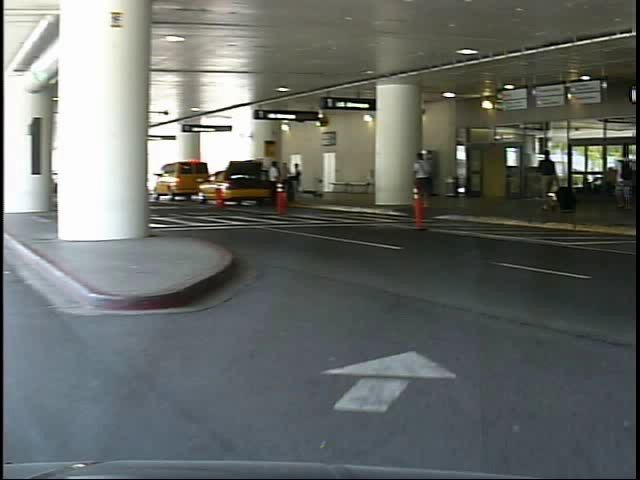person: (540, 146, 568, 222), (415, 149, 442, 215)
